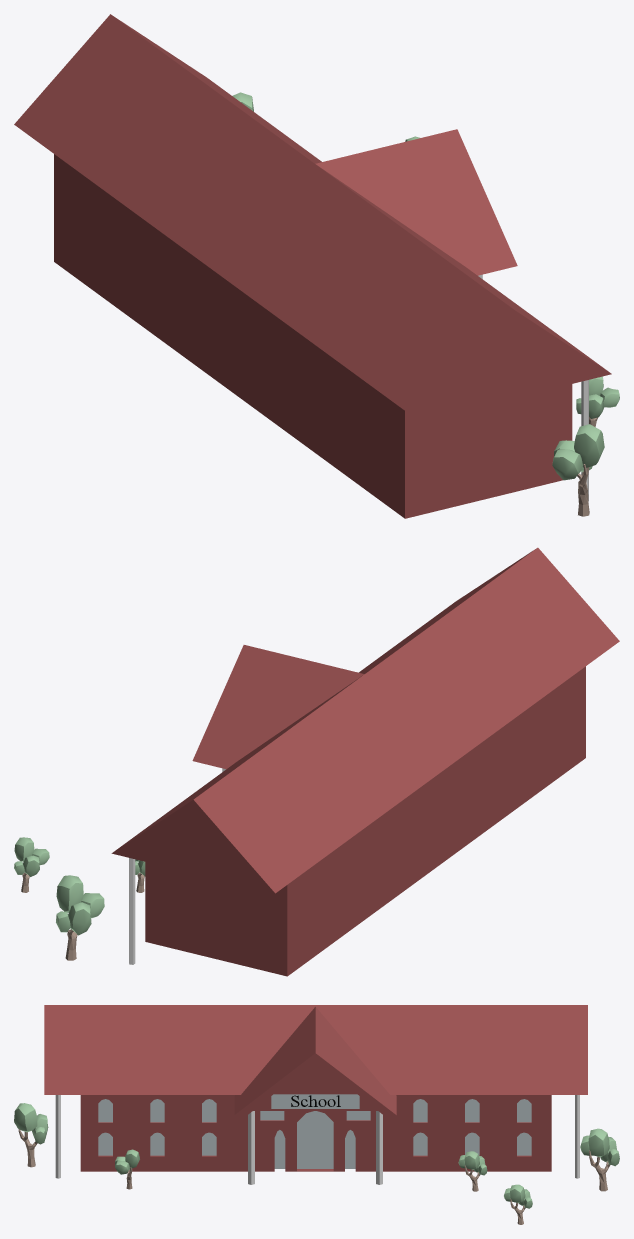
Rendered from School.fbx.
3 views of the same model, one above another, from view 1: azimuth 30°, elevation 25°; view 2: azimuth 150°, elevation 25°; view 3: azimuth 270°, elevation 25° (orthographic). The views are drawn at different scales.
Parts seen in each view (by area): view 1: polySurface59, pCube23, pCube58, pCube60; view 2: polySurface59, pCube23, pCube54, pCylinder7, pCube53; view 3: polySurface59, pCube23, pPlane2, pPlane3, pCube58, pCube54, pCylinder5, pCylinder4, pCylinder8, pCylinder7, pCylinder10.
Boxes of the visible parts, x1,y1,x2,y2 form: polySurface59: [14, 14, 611, 518]; pCube23: [315, 129, 517, 275]; pCube58: [574, 424, 604, 467]; pCube60: [552, 449, 582, 480]; polySurface59: [111, 547, 619, 976]; pCube23: [192, 645, 364, 769]; pCube54: [56, 875, 83, 912]; pCylinder7: [129, 858, 135, 964]; pCube53: [68, 902, 91, 935]; polySurface59: [44, 1005, 587, 1171]; pCube23: [234, 1007, 396, 1115]; pPlane2: [98, 1099, 531, 1168]; pPlane3: [271, 1094, 359, 1108]; pCube58: [14, 1103, 37, 1132]; pCube54: [588, 1128, 609, 1157]; pCylinder5: [376, 1111, 382, 1184]; pCylinder4: [248, 1111, 254, 1184]; pCylinder8: [55, 1095, 60, 1178]; pCylinder7: [575, 1095, 579, 1178]; pCylinder10: [589, 1150, 610, 1191].
Size of the model in its own units: 334 by 194 by 730.
